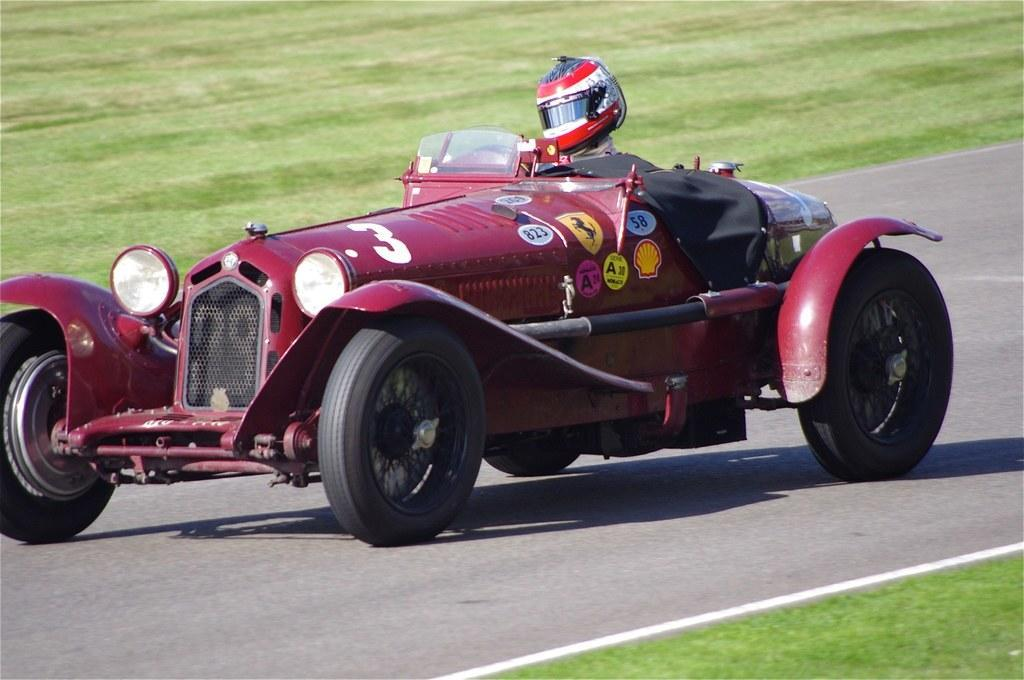helmet: (535, 54, 629, 156)
